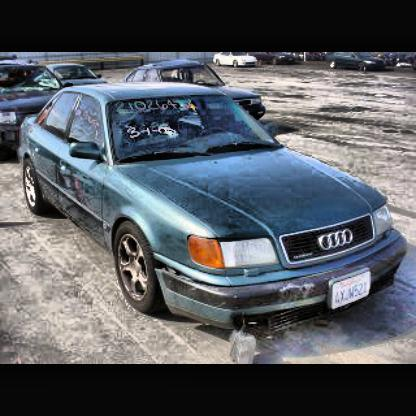Audi 100 Sedan 1994: (16, 80, 416, 336)
